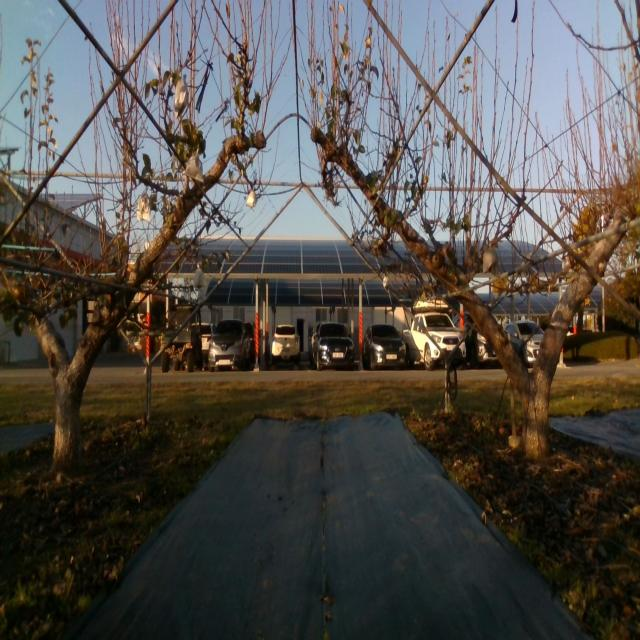pearbags: (184, 154, 204, 182), (174, 79, 188, 115), (483, 248, 499, 274), (137, 192, 150, 223), (194, 269, 206, 287)
